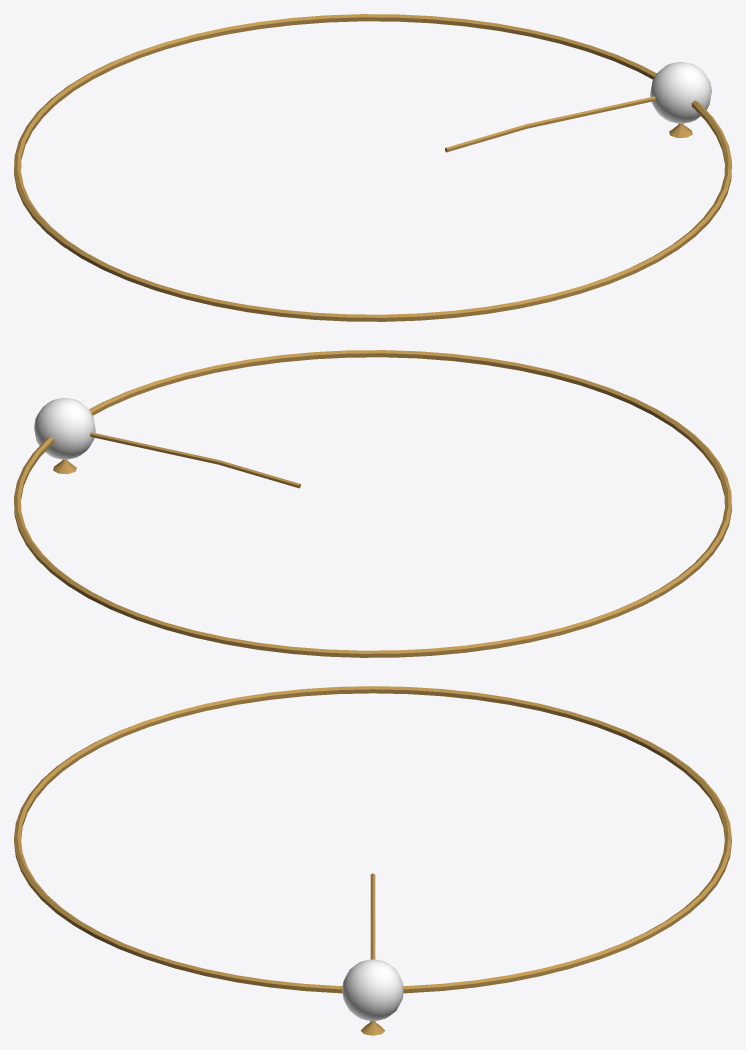
File: orrery_arm_2.glb
The picture shows the model from 3 angles, top to bottom: view 1: azimuth 30°, elevation 25°; view 2: azimuth 150°, elevation 25°; view 3: azimuth 270°, elevation 25°; orthographic projection.
Parts seen in each view (by area): view 1: orrery_arm_2; view 2: orrery_arm_2; view 3: orrery_arm_2.
Part boxes in pixels (x1,y1,x2,y2): orrery_arm_2: [14, 14, 731, 321]; orrery_arm_2: [14, 350, 731, 657]; orrery_arm_2: [14, 686, 731, 1035].
Bounding box in the file's own units: 3.36 × 0.34 × 3.23.
